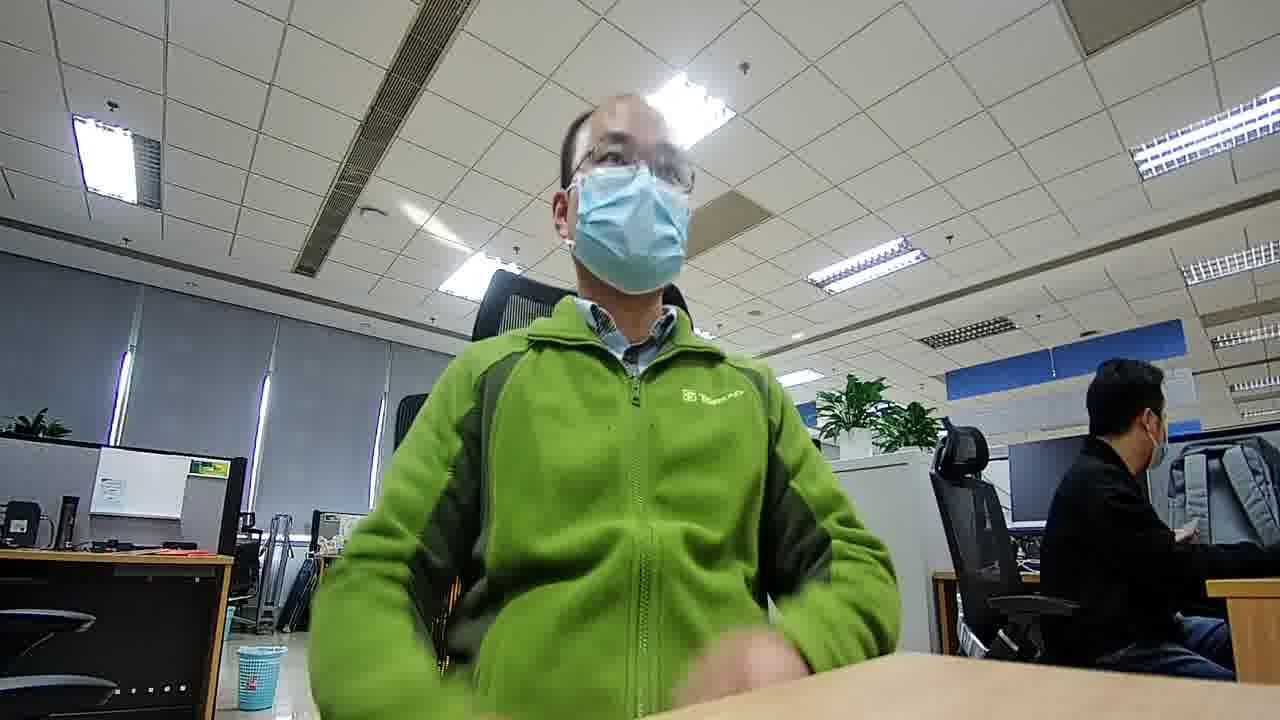face: (572, 106, 689, 298)
mask: (573, 162, 687, 296)
person: (448, 85, 779, 408), (1049, 358, 1182, 522)
